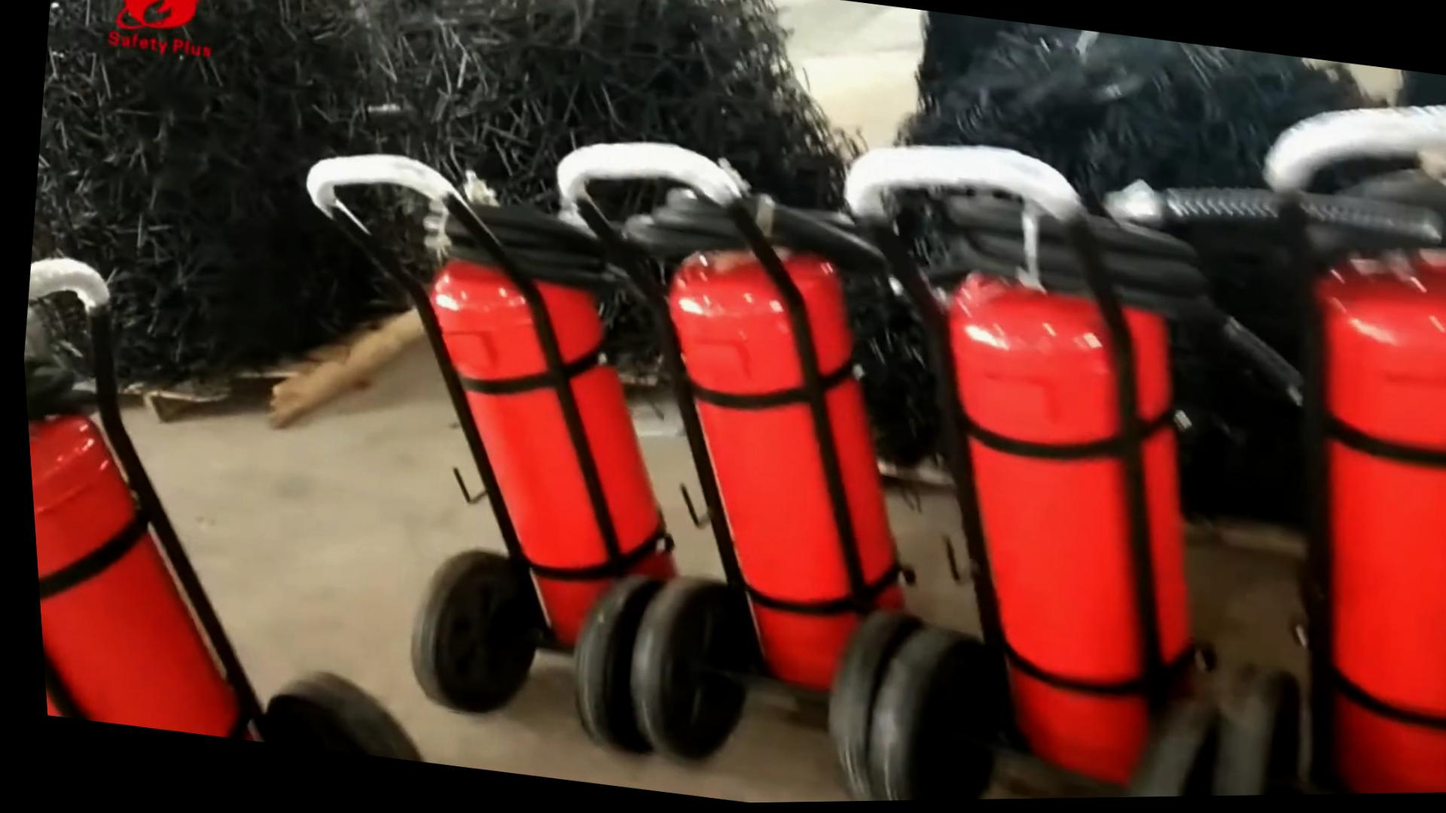FireExtinguisher: (862, 181, 1279, 803), (584, 182, 973, 737), (329, 149, 713, 708), (15, 275, 327, 748), (1212, 201, 1446, 799)
